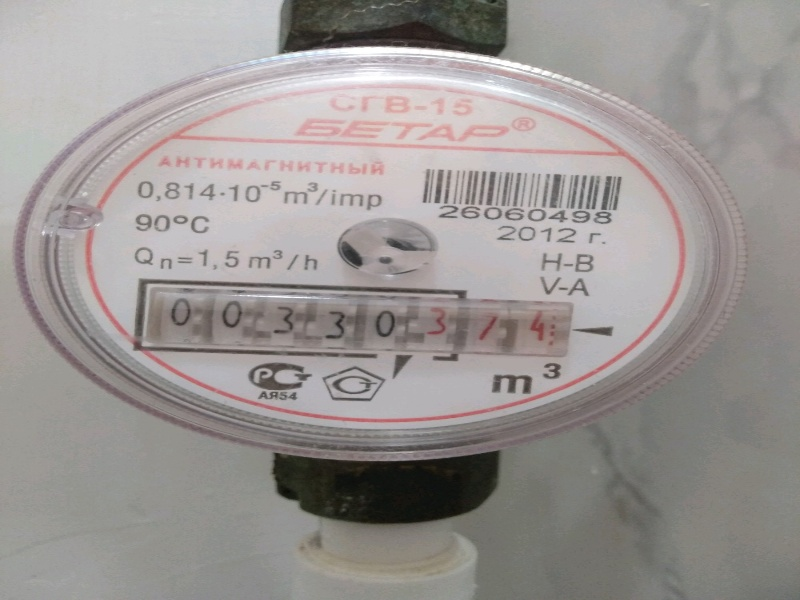meter: (160, 287, 552, 359)
